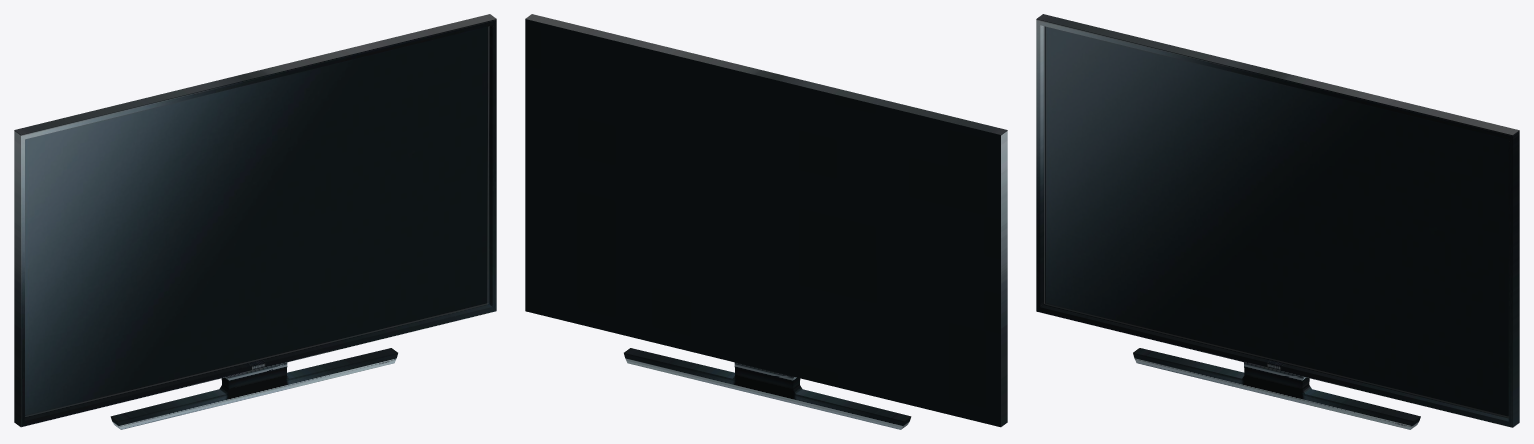
3 views of the same model, side by side, from view 1: azimuth 30°, elevation 25°; view 2: azimuth 150°, elevation 25°; view 3: azimuth 330°, elevation 25° (orthographic).
Visible parts, largest first — view 1: Cube; view 2: Cube; view 3: Cube.
Part boxes in pixels (bbox=[...]): Cube: bbox=[14, 14, 496, 429]; Cube: bbox=[525, 14, 1007, 429]; Cube: bbox=[1036, 14, 1519, 429].
Bounding box in the file's own units: 1.76 × 1.13 × 0.0433.
1 material, 1 textured.
